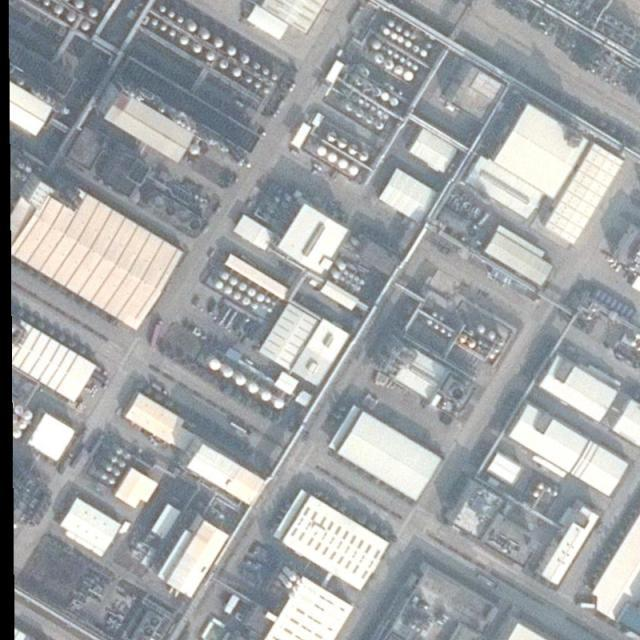vehicle: (151, 318, 164, 348)
